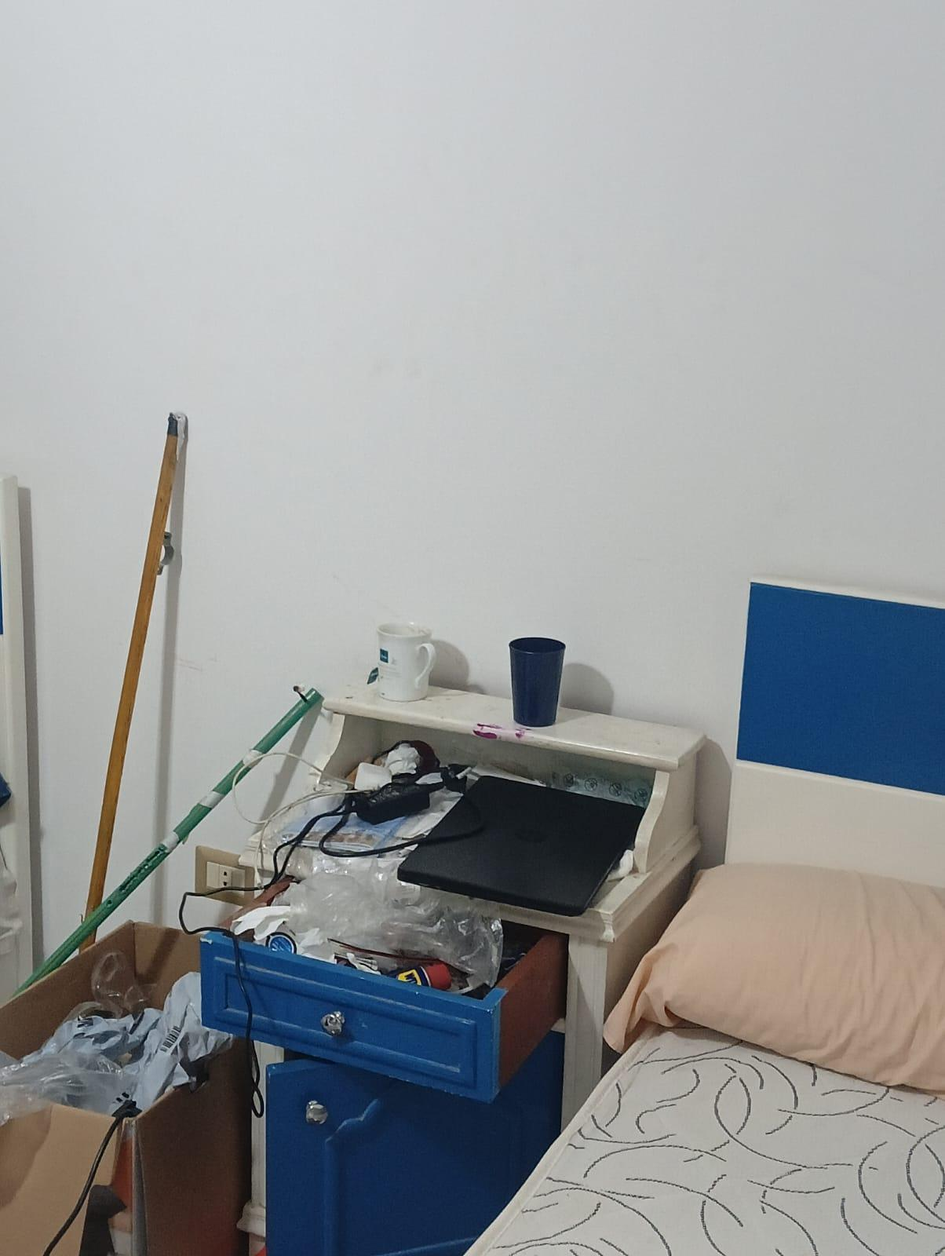cup: (509, 637, 564, 727), (378, 623, 435, 701)
